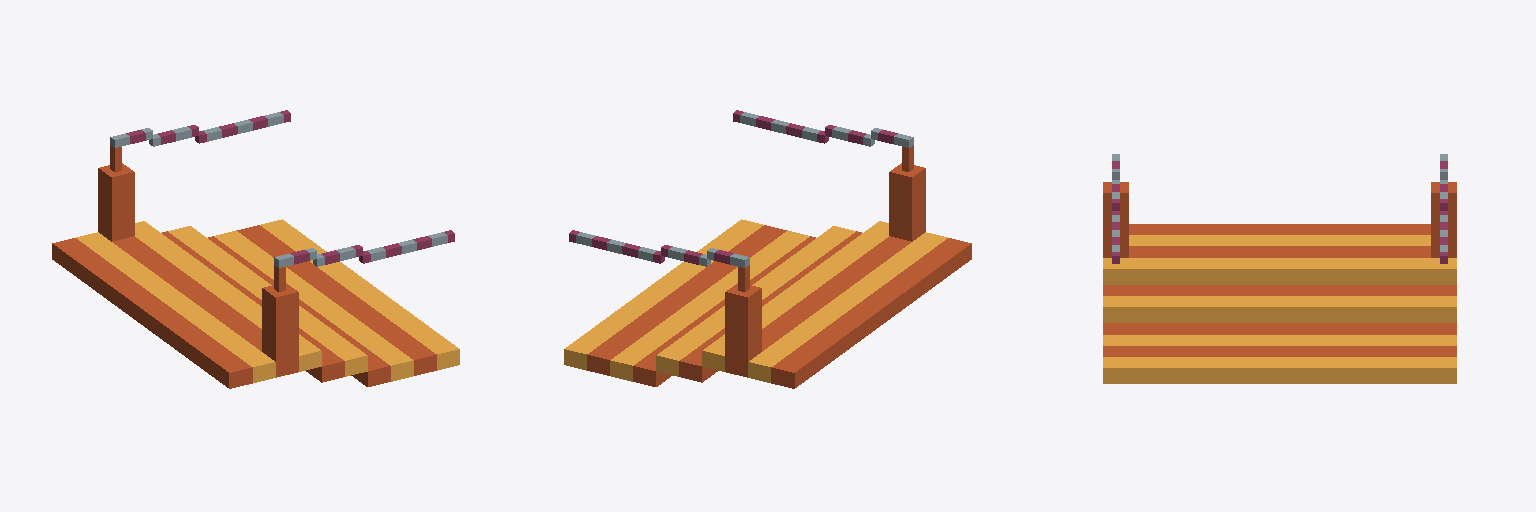
3 views of the same model, side by side, from view 1: azimuth 30°, elevation 25°; view 2: azimuth 150°, elevation 25°; view 3: azimuth 270°, elevation 25° (orthographic).
Visible parts, largest first — view 1: object 1; view 2: object 1; view 3: object 1.
Part boxes in pixels (x1,y1,x2,y2): object 1: (52, 110, 459, 388); object 1: (564, 110, 971, 388); object 1: (1103, 154, 1456, 383).
Size of the model in its own units: 3 by 1.8 by 4.
Materials: 1 (1 with a texture image).